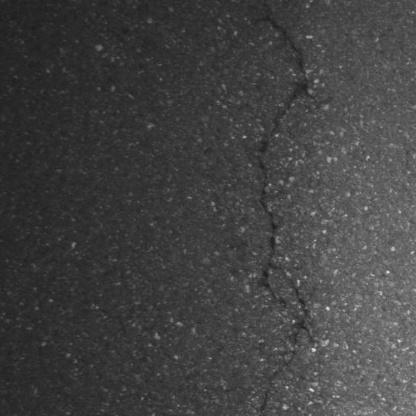Cracks: (253, 12, 321, 348), (254, 391, 272, 416)
